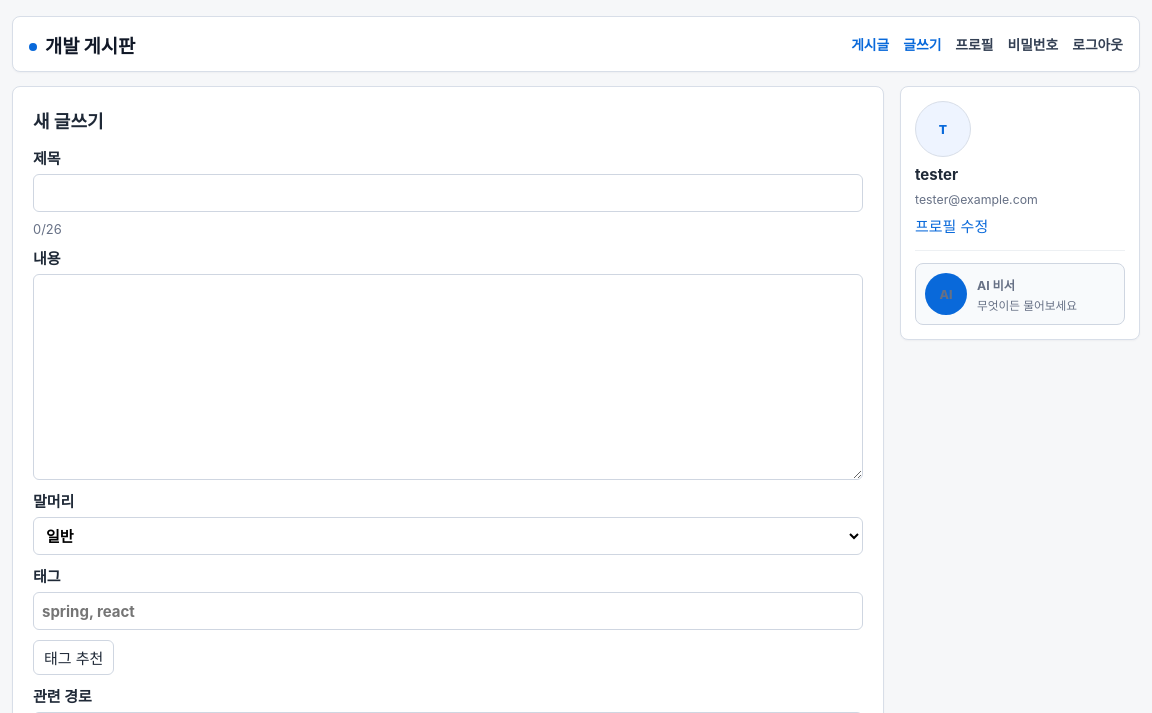
Test case: 게시글 › 제목을 26자까지만 입력하고 제한 메시지를 보여준다
Type "가나다라마바사아자차카타파하가나다라마바사아자차카타파하" into the field labelled "제목" at (448, 193), box top-left (33, 174), bottom-right (863, 212)
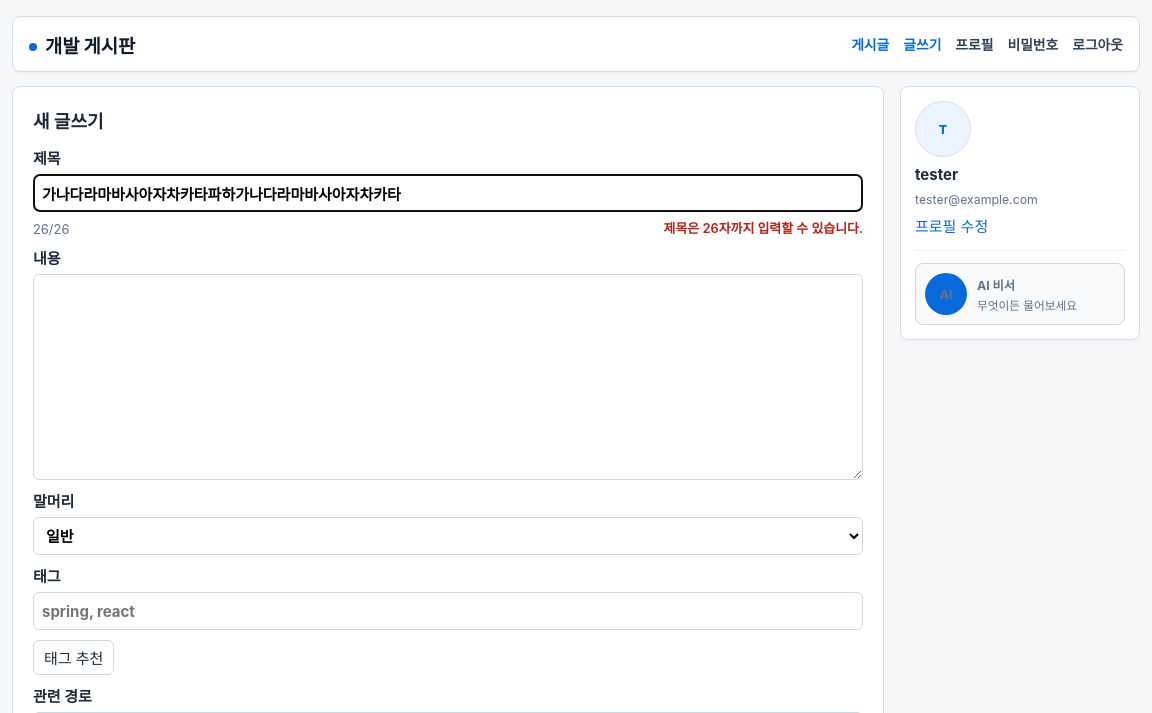
Check: the field labelled "제목" holds "가나다라마바사아자차카타파하가나다라마바사아자차카타", box top-left (33, 174), bottom-right (863, 212)
Check: the text "제목은 26자까지 입력할 수 있습니다." is shown, box top-left (664, 218), bottom-right (863, 237)
